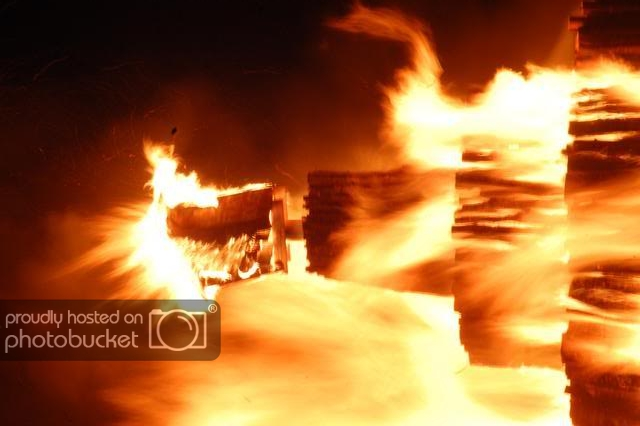fire: (130, 46, 640, 356)
